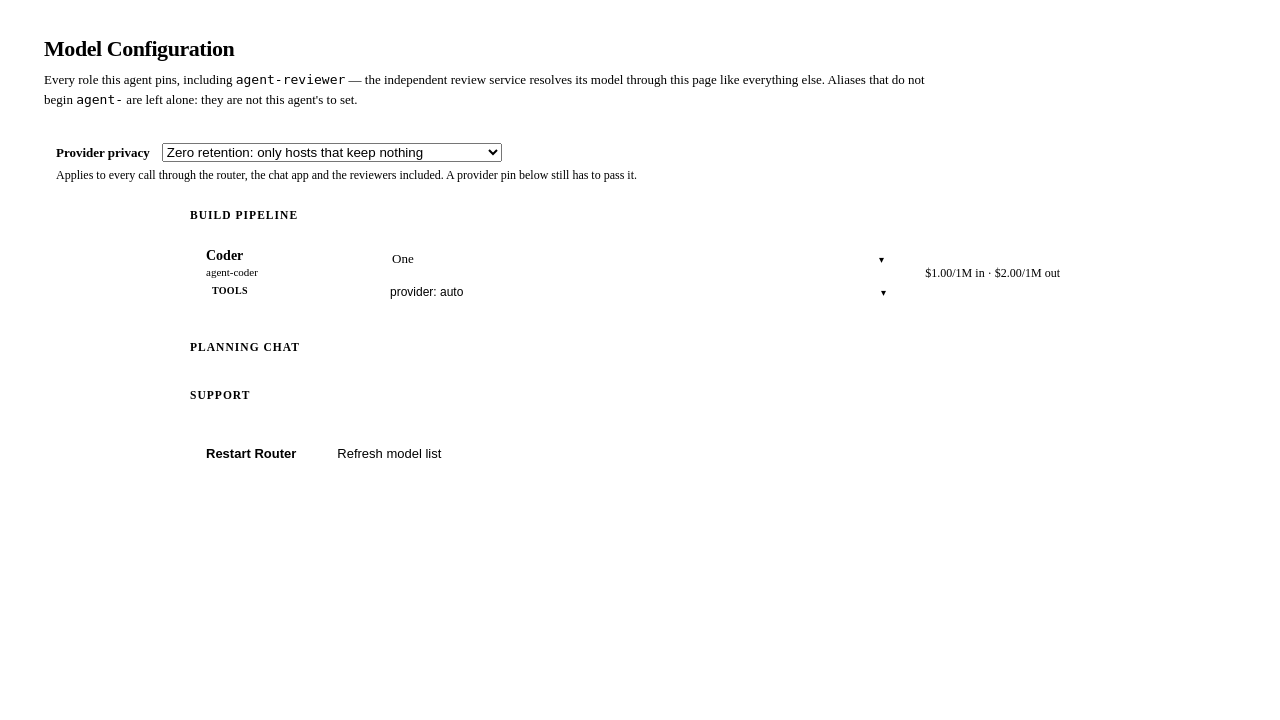
Test: restarting the router › does not claim success when the router has not answered yet
Expected: the text "agent-coder" is shown, left=206, top=266, right=258, bottom=278
Click the button "Restart Router".
click(251, 454)  # box left=190, top=437, right=312, bottom=470
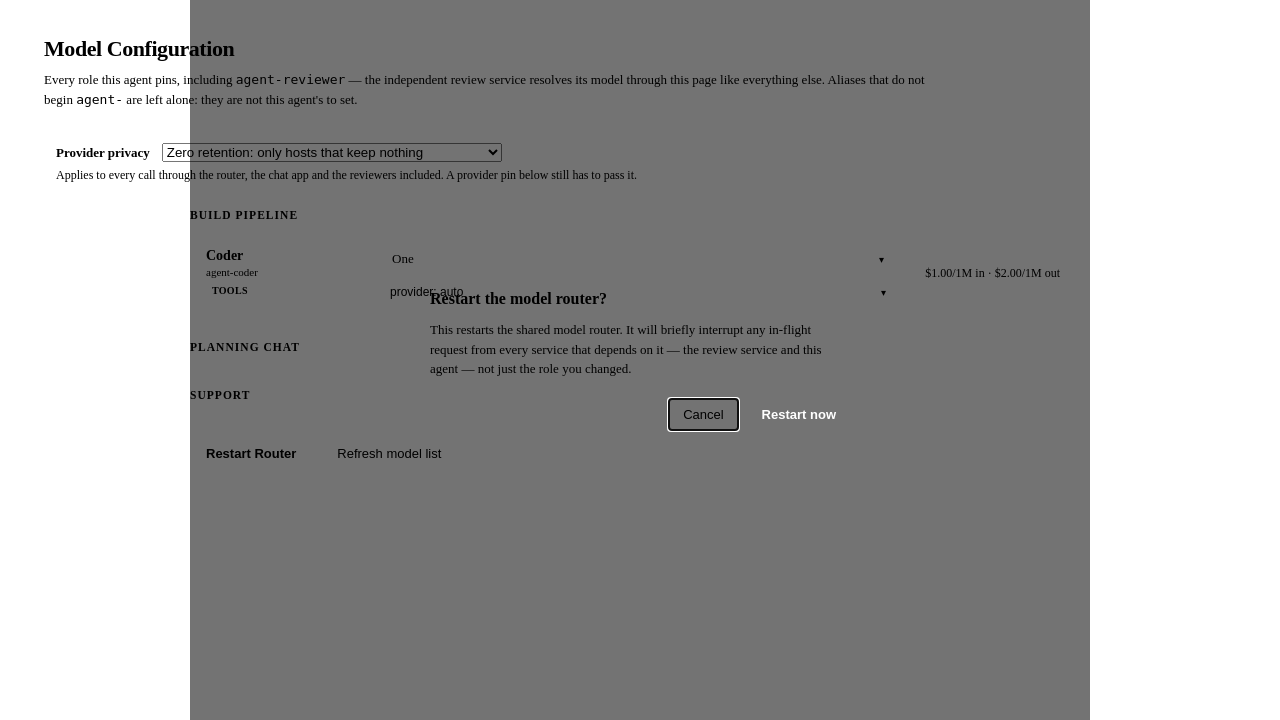
Click the button "Restart now".
click(799, 414)  # box left=748, top=399, right=850, bottom=430
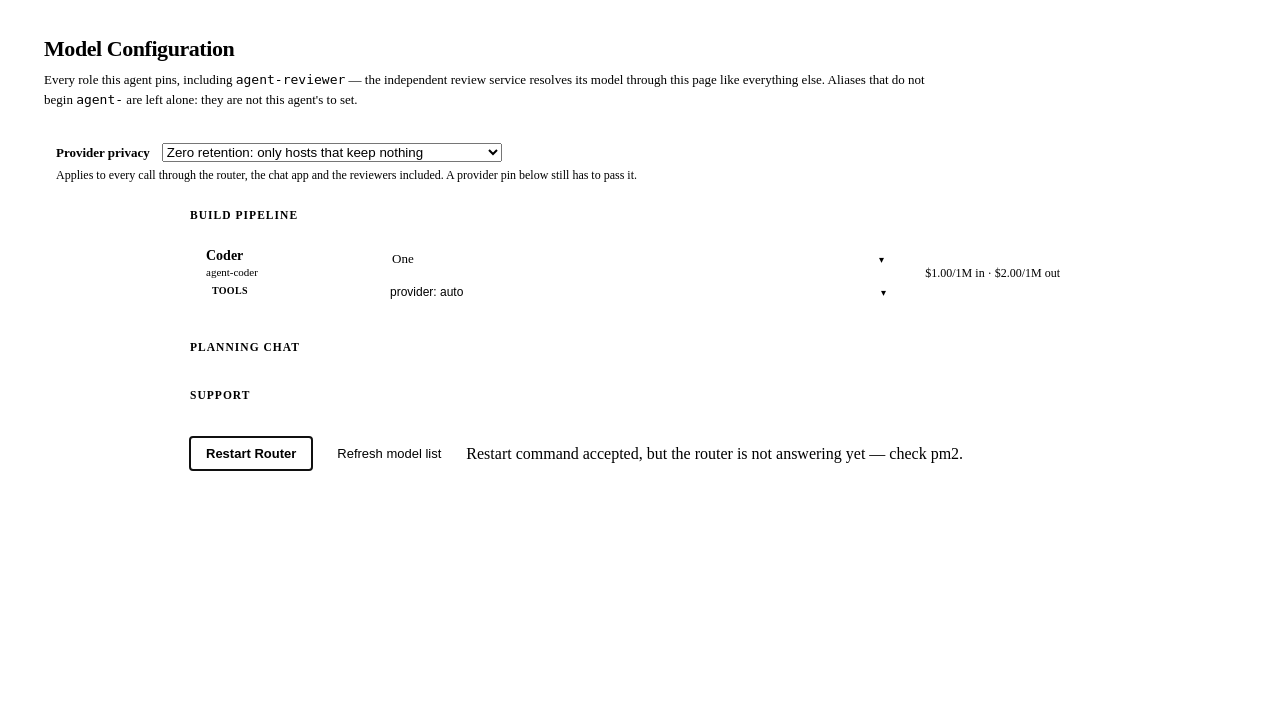
Now the message shows "not answering yet", box left=466, top=444, right=963, bottom=462
